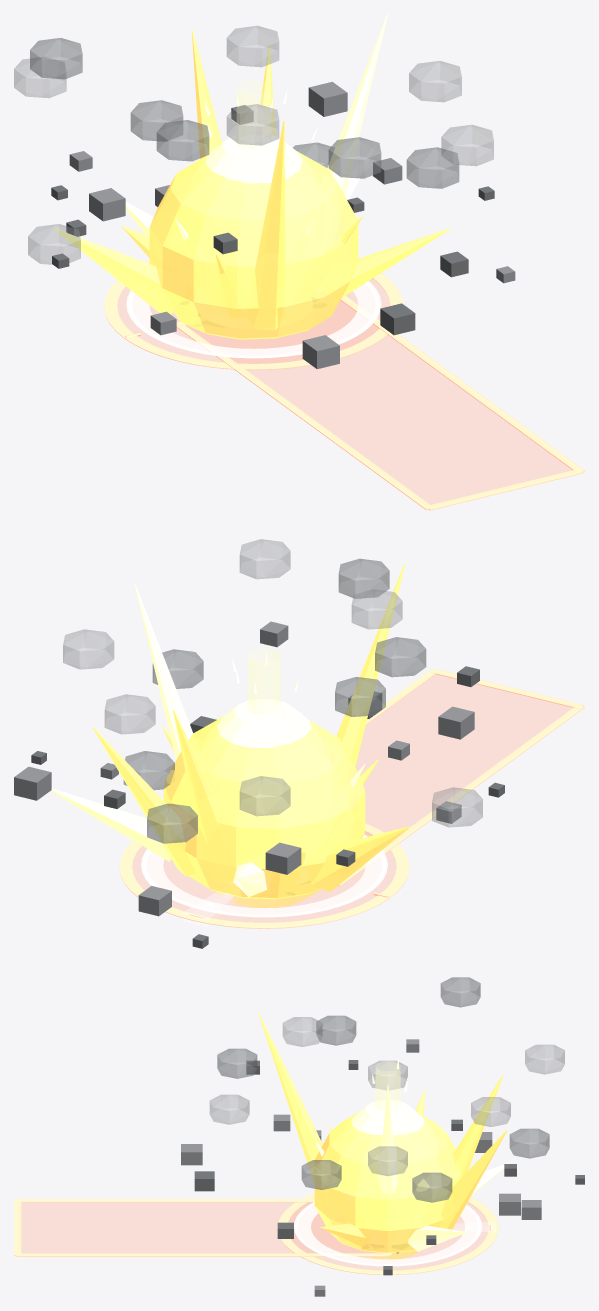
Rendered from efectos3.glb.
The picture shows the model from 3 angles, top to bottom: view 1: azimuth 30°, elevation 25°; view 2: azimuth 150°, elevation 25°; view 3: azimuth 270°, elevation 25°; orthographic projection. The views are drawn at different scales.
Visible parts, largest first — view 1: explosion_grande, aviso_linea, aviso_area, onda, subir_nivel; view 2: explosion_grande, aviso_linea, aviso_area, onda, subir_nivel, estela; view 3: explosion_grande, aviso_linea, aviso_area, onda, subir_nivel.
Part boxes in pixels (left/top/right/bottom): explosion_grande: left=14, top=14, right=515, bottom=369; aviso_linea: left=176, top=295, right=584, bottom=510; aviso_area: left=104, top=261, right=403, bottom=369; onda: left=126, top=281, right=381, bottom=358; subir_nivel: left=204, top=80, right=318, bottom=165; explosion_grande: left=14, top=539, right=504, bottom=948; aviso_linea: left=337, top=668, right=584, bottom=886; aviso_area: left=119, top=823, right=409, bottom=928; onda: left=141, top=834, right=387, bottom=917; subir_nivel: left=232, top=648, right=298, bottom=721; estela: left=180, top=891, right=237, bottom=926; explosion_grande: left=181, top=977, right=584, bottom=1296; aviso_linea: left=14, top=1199, right=391, bottom=1256; aviso_area: left=277, top=1193, right=498, bottom=1274; onda: left=294, top=1201, right=482, bottom=1266; subir_nivel: left=361, top=1058, right=407, bottom=1128.
Size of the model in its own units: 7.61 by 4.75 by 11.1.
